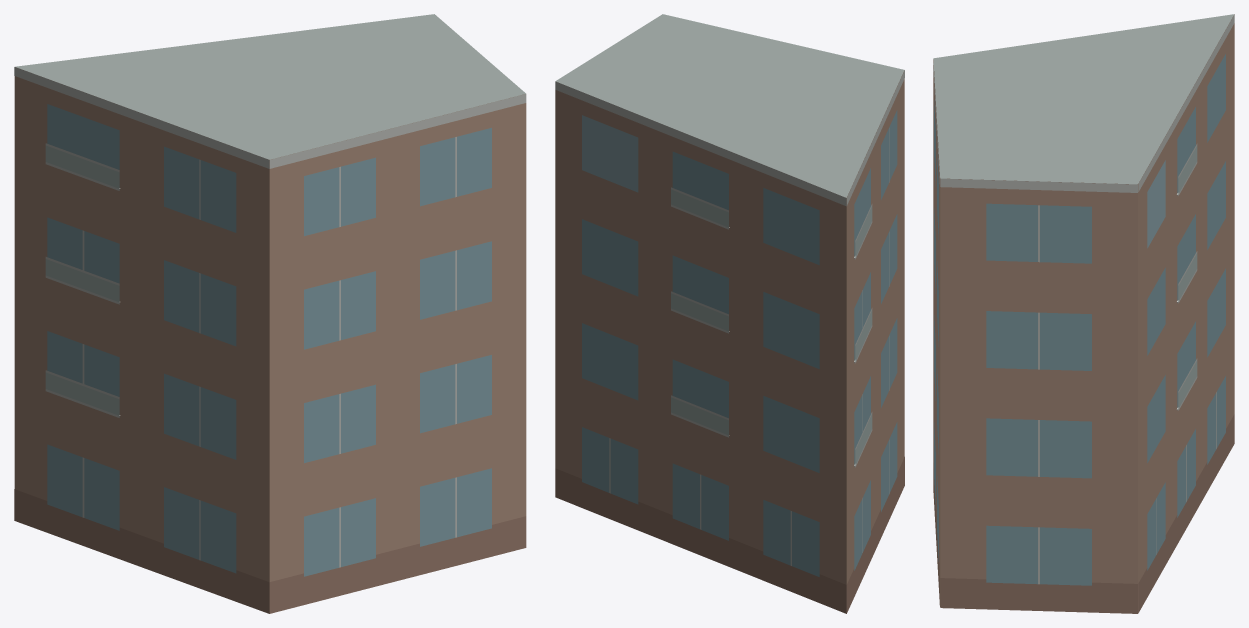
Rendered from survey-upis-32750577.glb.
3 views of the same model, side by side, from view 1: azimuth 30°, elevation 25°; view 2: azimuth 150°, elevation 25°; view 3: azimuth 270°, elevation 25° (orthographic). The views are drawn at different scales.
Visible parts, largest first — view 1: survey-upis-32750577.tmp; view 2: survey-upis-32750577.tmp; view 3: survey-upis-32750577.tmp.
Part boxes in pixels (box(x1,y1,x2,y2)): survey-upis-32750577.tmp: box(14, 14, 526, 613); survey-upis-32750577.tmp: box(555, 14, 904, 613); survey-upis-32750577.tmp: box(933, 14, 1234, 613).
Bounding box in the file's own units: 10.3 × 12.1 × 7.7.
